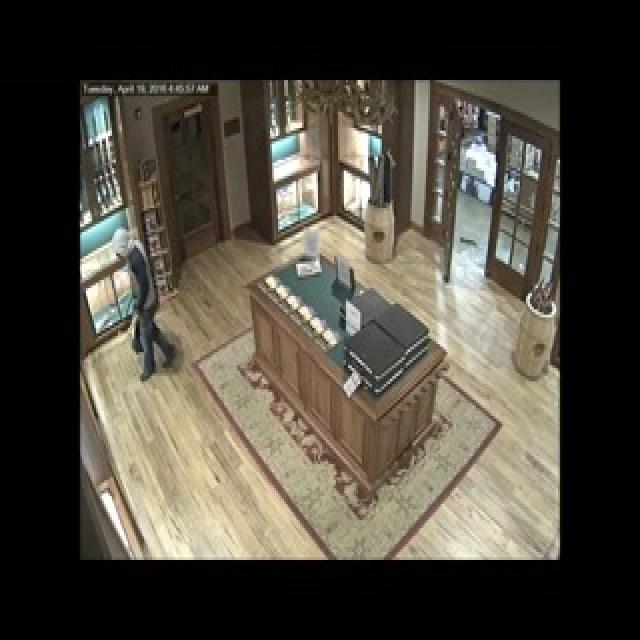burglary: (449, 124, 522, 247)
thief: (104, 230, 168, 359)
